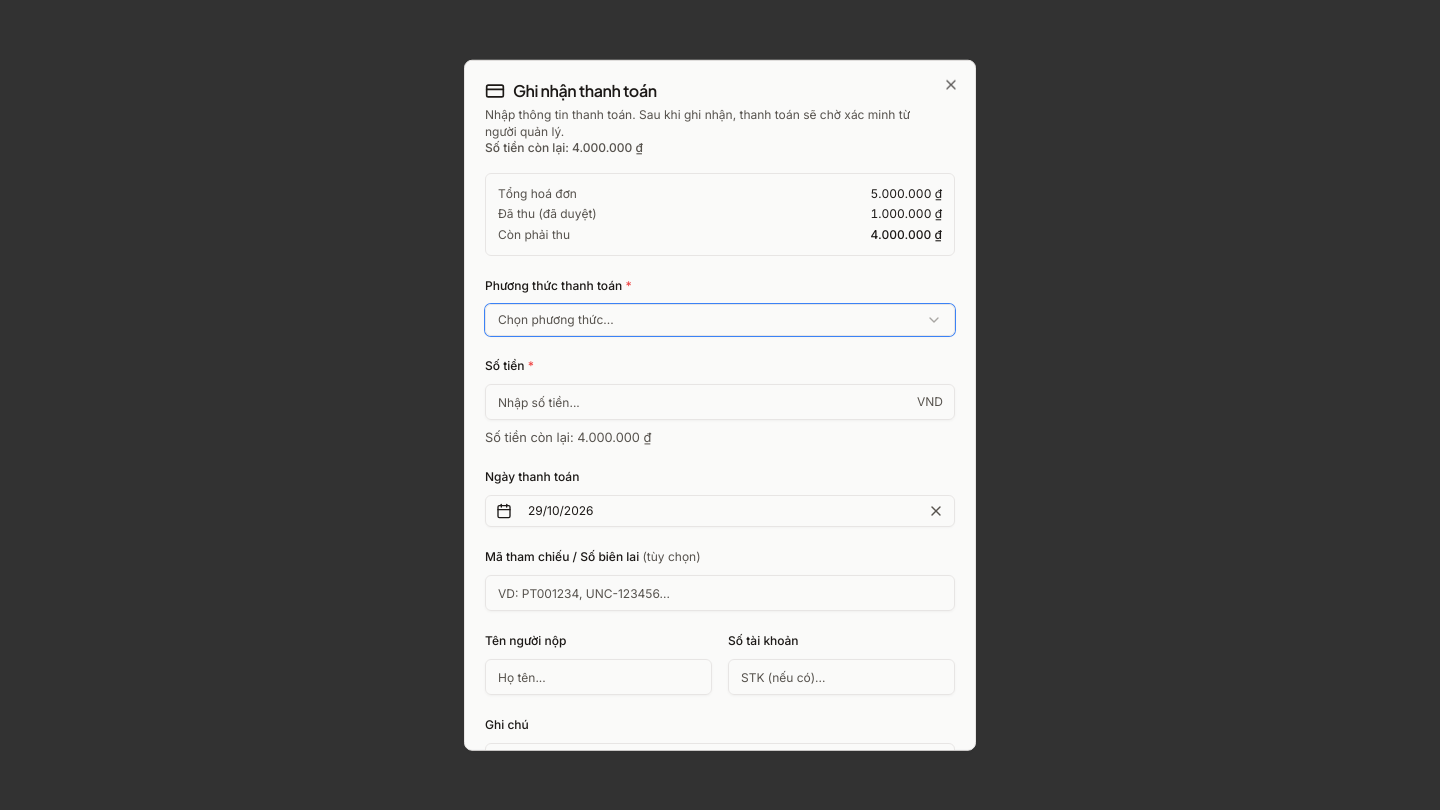
Test: PaymentRecordDialog — MỘT con số 'còn lại' duy nhất › chặn số tiền vượt số dư THẬT dù nó nhỏ hơn con số truyền qua prop
Click the dropdown named "phương thức thanh toán" at (556, 319), box [485,304,955,336]
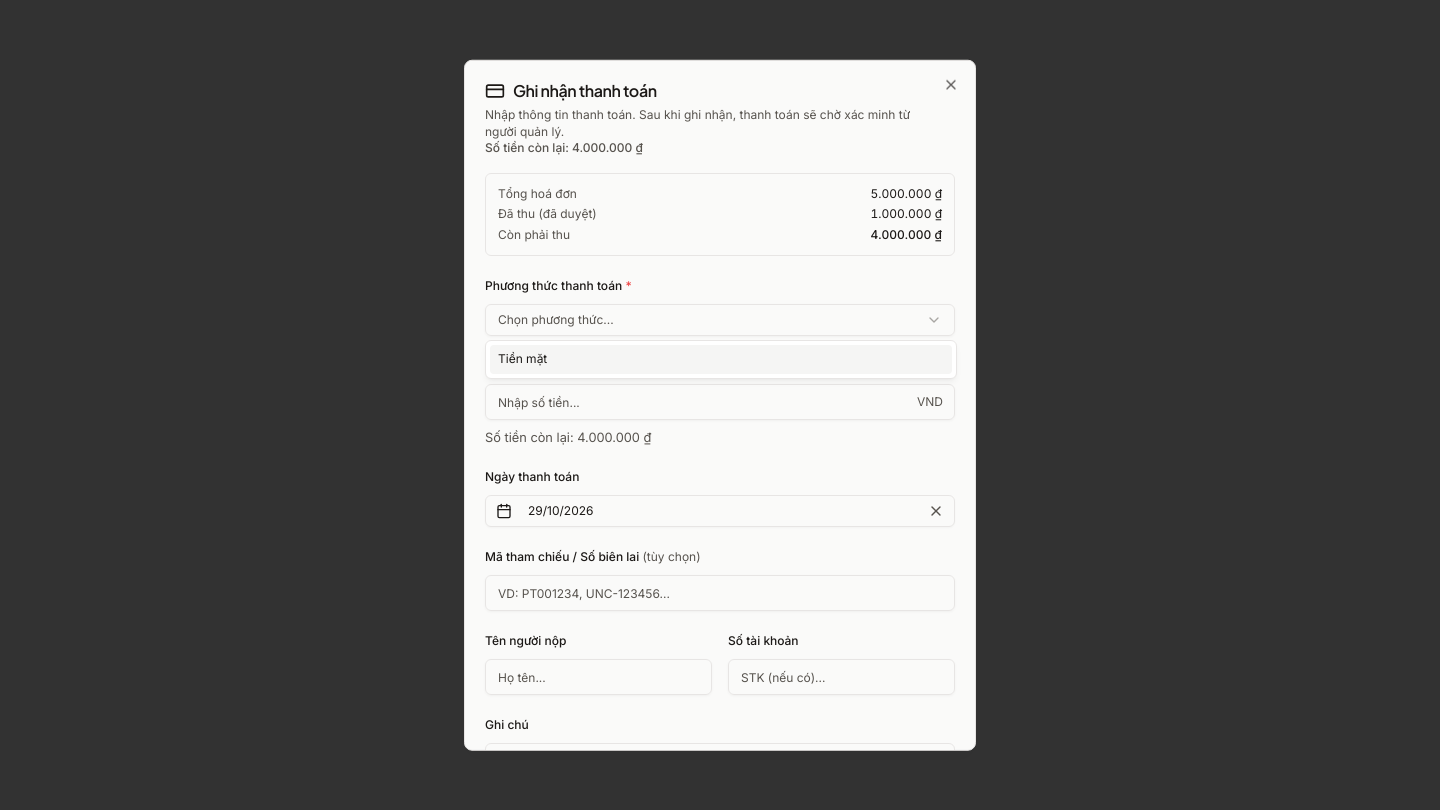
Click the option "Tiền mặt" at (523, 358), box [490,345,952,374]
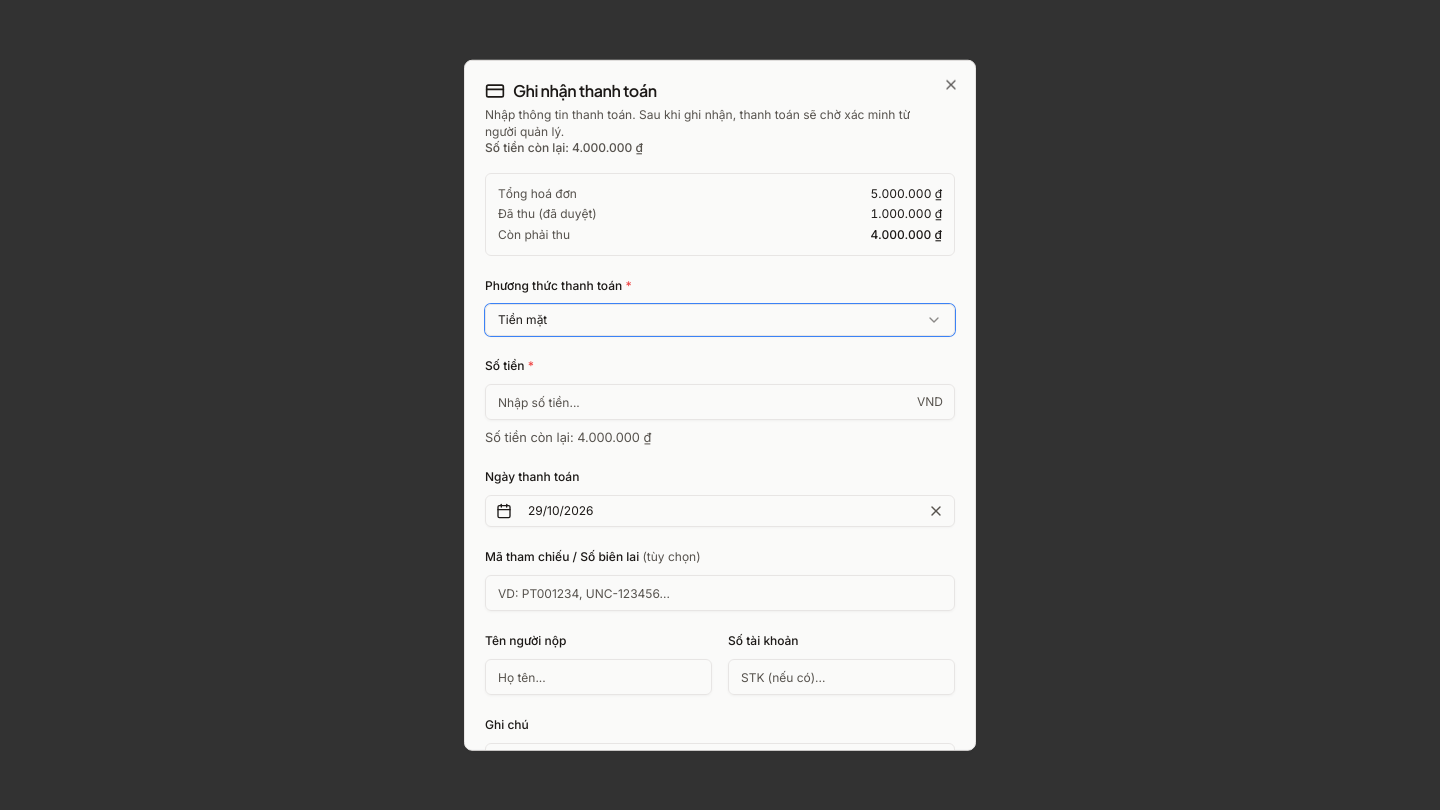
Type "5000000" into the field with placeholder "Nhập số tiền..." at (720, 402), box [485,384,955,420]
(page scrolled)
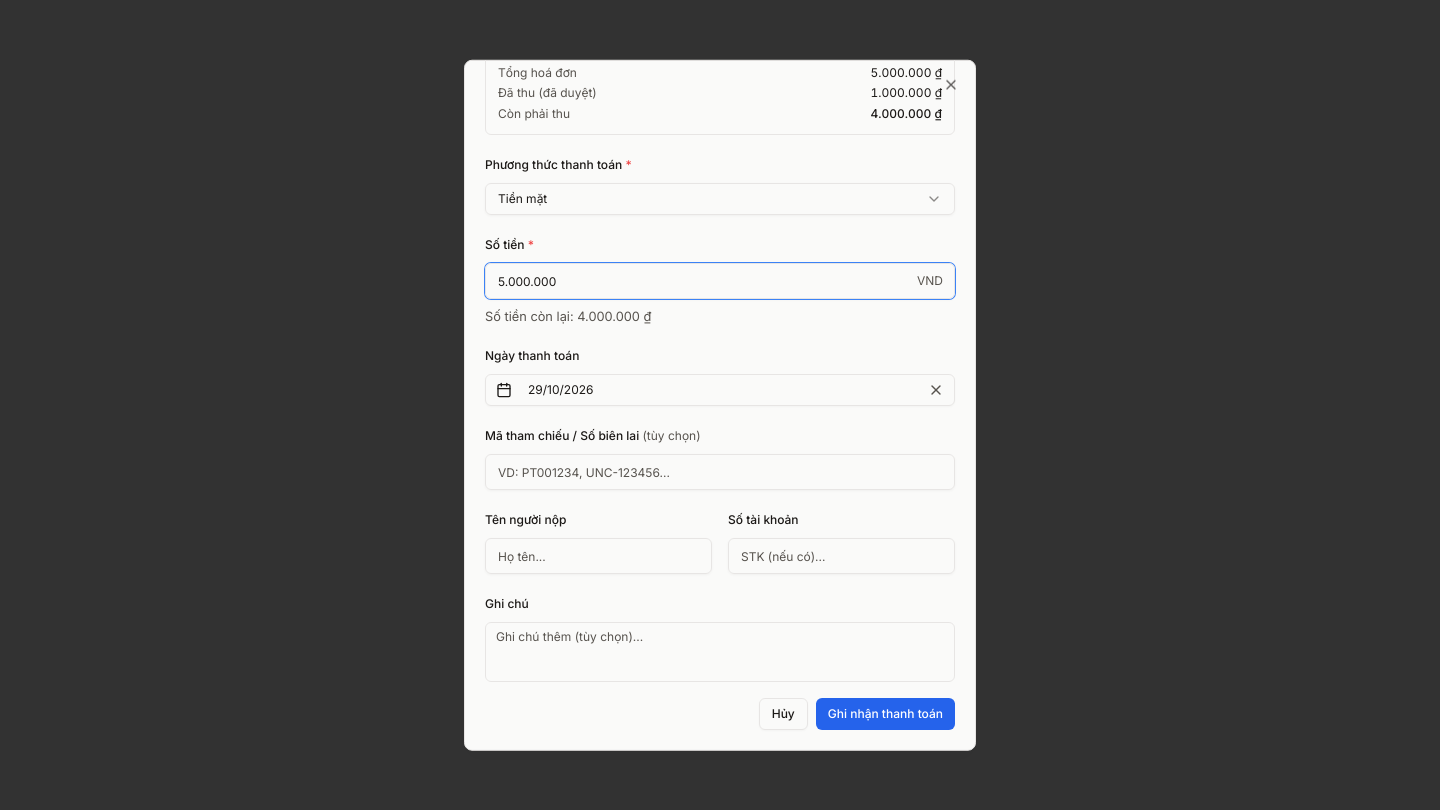
Click the button "Ghi nhận thanh toán" at (885, 714), box [816,698,955,730]
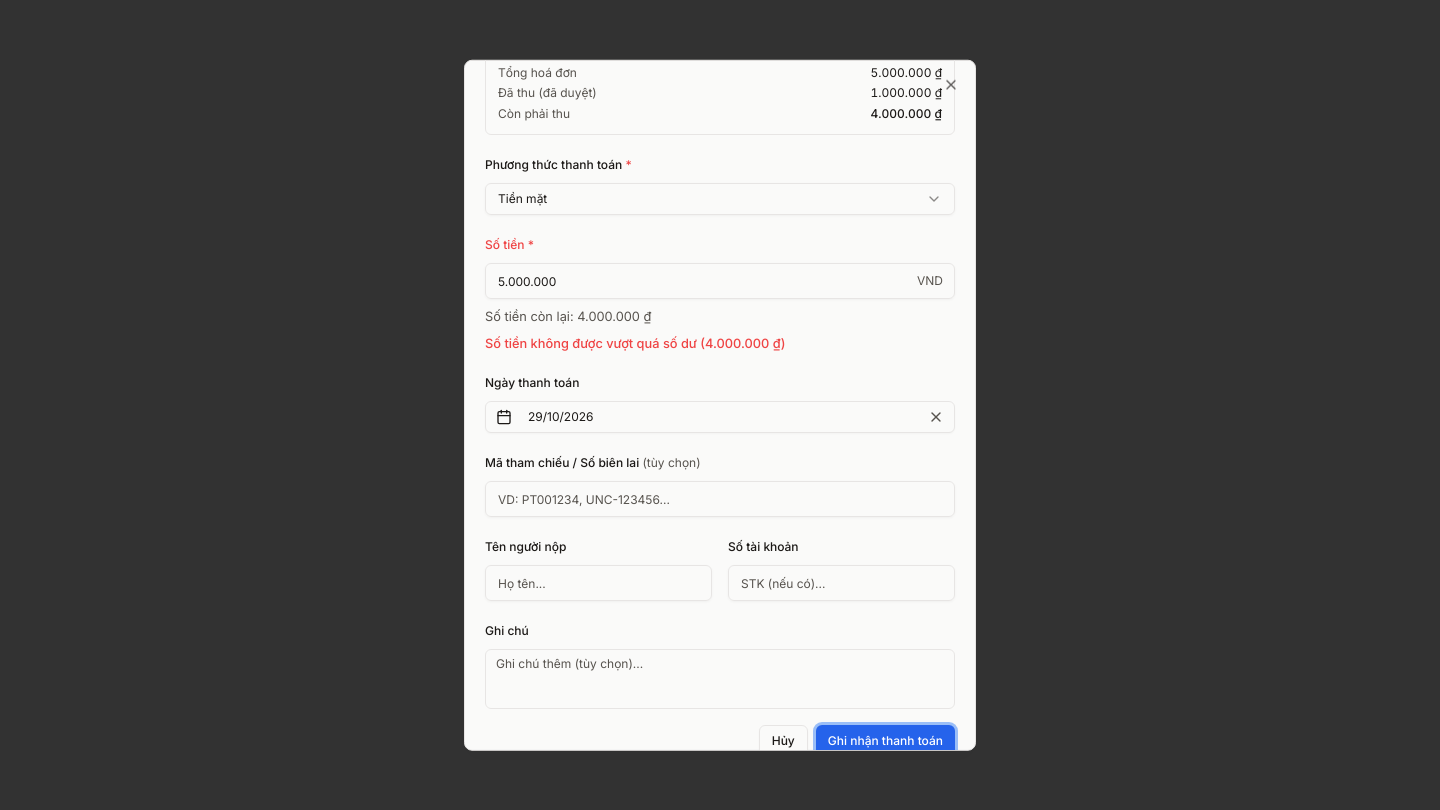
Expected: the text "Số tiền không được vượt quá số dư (4.000.000 ₫)" is shown, [485,336,785,351]
